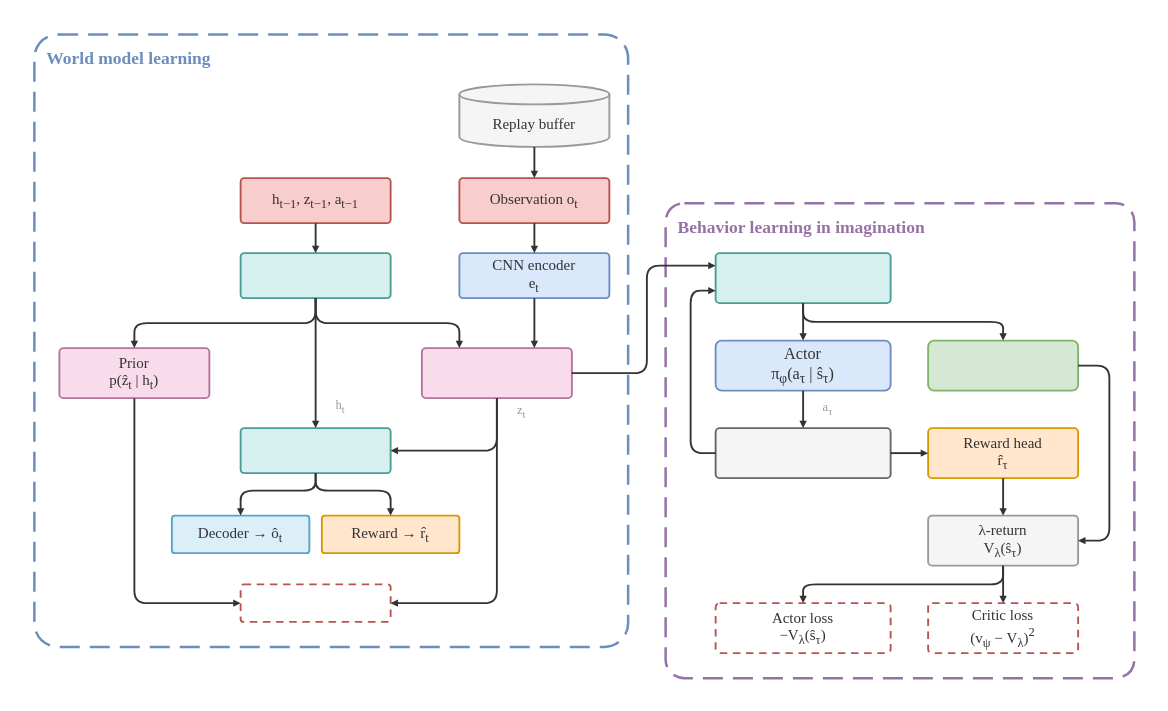
The diagram is 1168 pixels wide and 711 high, and some of its shapes have lost their labels. The shapes that lost their labels are listed below. From the top down, each one's centre as x and y in pixels, then its label:
[315,275]: GRU deterministic h t
[802,278]: Latent state ŝ τ = (h τ , ẑ τ )
[496,372]: Posterior q(z t | h t , e t )
[1002,365]: Critic v ψ (ŝ τ )
[315,450]: Model state s t = (h t , z t )
[802,452]: World model (frozen) GRU + prior → ŝ τ+1
[315,602]: KL[ q ‖ p ]
